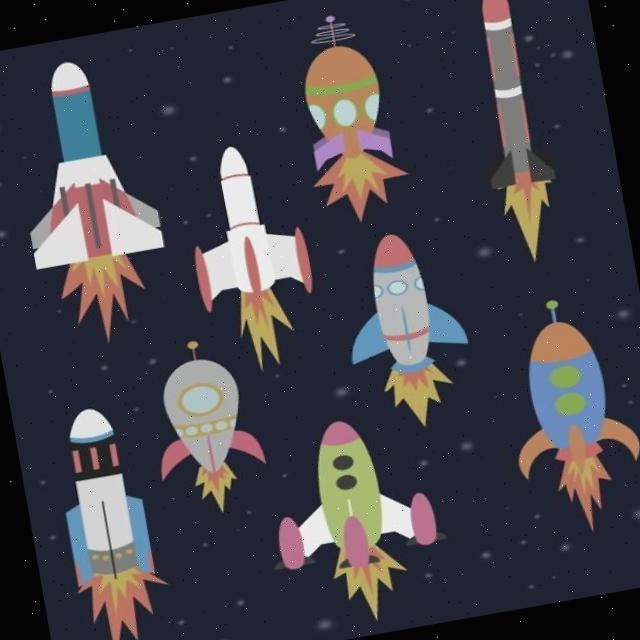rocket: (0, 50, 185, 280), (256, 397, 457, 580), (484, 283, 640, 489), (172, 128, 316, 316), (323, 221, 481, 387), (39, 396, 162, 597), (279, 5, 414, 175), (134, 328, 272, 487), (454, 0, 556, 195)
